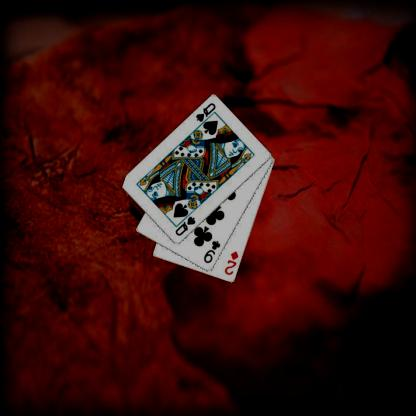2D: (222, 249, 240, 276)
9C: (201, 238, 221, 265)
QS: (193, 100, 217, 124), (172, 214, 196, 237)
